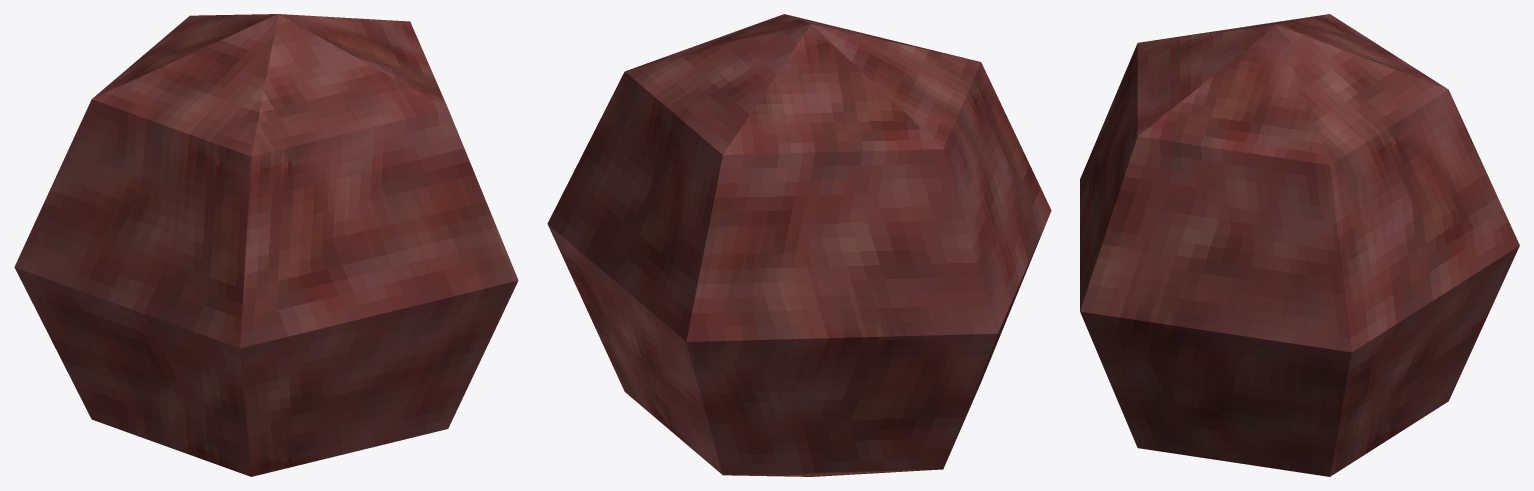
File: gib.glb
The picture shows the model from 3 angles, left to right: view 1: azimuth 30°, elevation 25°; view 2: azimuth 150°, elevation 25°; view 3: azimuth 270°, elevation 25°; orthographic projection. The views are drawn at different scales.
Parts seen in each view (by area): view 1: Sphere; view 2: Sphere; view 3: Sphere.
Boxes of the visible parts, left/top/right/bottom form: Sphere: left=14, top=14, right=518, bottom=476; Sphere: left=547, top=14, right=1051, bottom=476; Sphere: left=1080, top=14, right=1519, bottom=476.
Bounding box in the file's own units: 2.08 × 2 × 1.81.
1 material, 1 textured.
